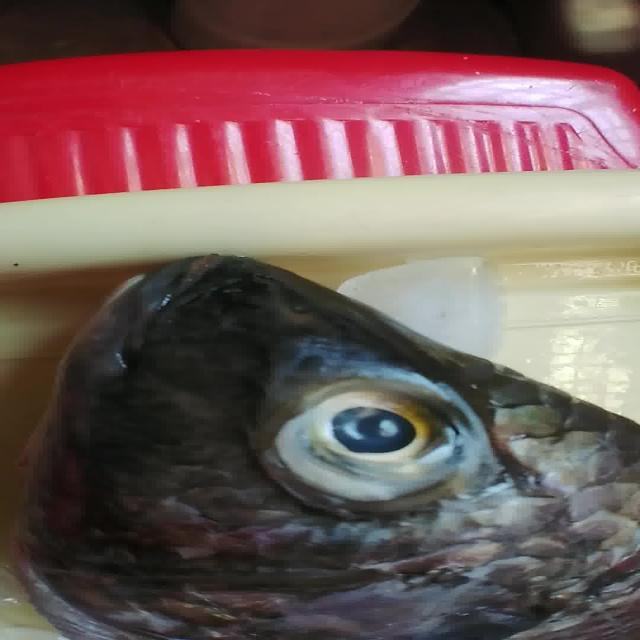Fresh: (274, 344, 492, 509)
